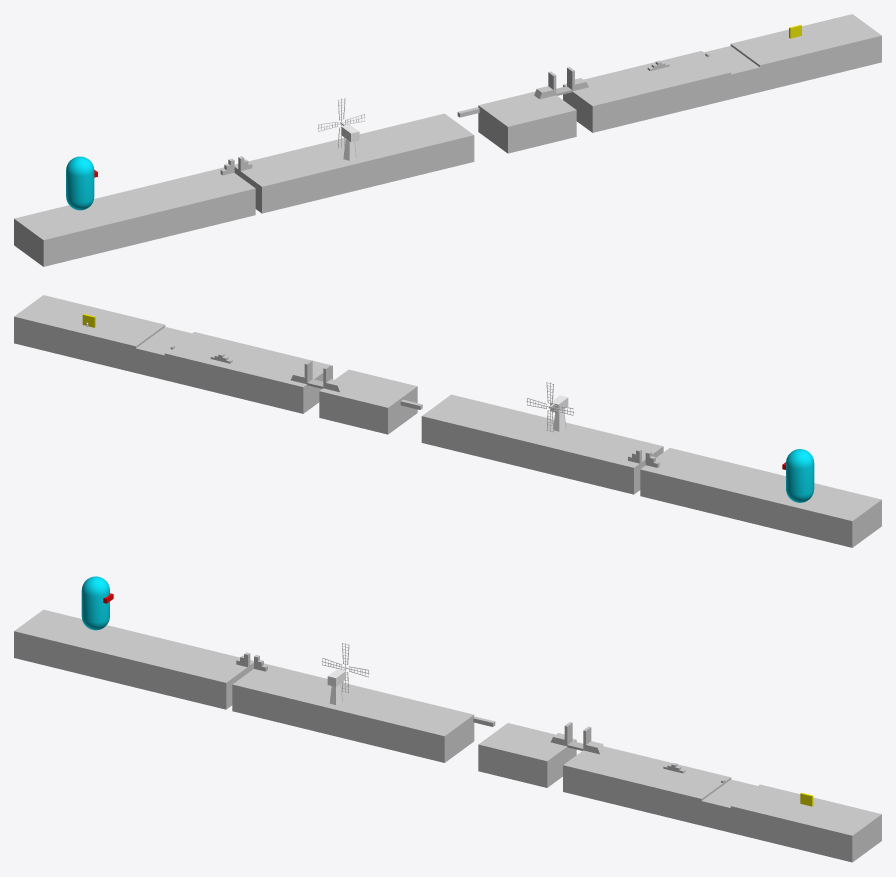
The model's file is Field.fbx.
3 views of the same model, one above another, from view 1: azimuth 30°, elevation 25°; view 2: azimuth 150°, elevation 25°; view 3: azimuth 330°, elevation 25° (orthographic).
Parts seen in each view (by area): view 1: field__5_, field__4_, field__2_, field, field__3_, field__1_, boss, huusya; view 2: field__5_, field__4_, field__2_, field, field__3_, field__1_, boss, huusya; view 3: field__4_, field__5_, field__2_, field, field__3_, field__1_, boss, huusya.
Boxes of the visible parts, left/top/right/bottom form: field__5_: left=14, top=167, right=255, bottom=266; field__4_: left=234, top=113, right=474, bottom=213; field__2_: left=563, top=51, right=731, bottom=132; field: left=730, top=14, right=881, bottom=91; field__3_: left=478, top=91, right=576, bottom=153; field__1_: left=704, top=46, right=759, bottom=98; boss: left=66, top=156, right=94, bottom=210; huusya: left=317, top=98, right=365, bottom=160; field__5_: left=640, top=448, right=881, bottom=547; field__4_: left=421, top=394, right=663, bottom=494; field__2_: left=164, top=332, right=332, bottom=413; field: left=14, top=295, right=165, bottom=372; field__3_: left=319, top=369, right=417, bottom=434; field__1_: left=136, top=327, right=191, bottom=379; boss: left=786, top=449, right=814, bottom=502; huusya: left=526, top=382, right=574, bottom=432; field__4_: left=232, top=663, right=474, bottom=762; field__5_: left=14, top=609, right=253, bottom=709; field__2_: left=563, top=746, right=731, bottom=825; field: left=730, top=784, right=881, bottom=862; field__3_: left=478, top=723, right=576, bottom=787; field__1_: left=701, top=779, right=757, bottom=832; boss: left=81, top=576, right=109, bottom=630; huusya: left=321, top=643, right=369, bottom=704.
Bounding box in the file's own units: 42635 × 3858 × 2613.
